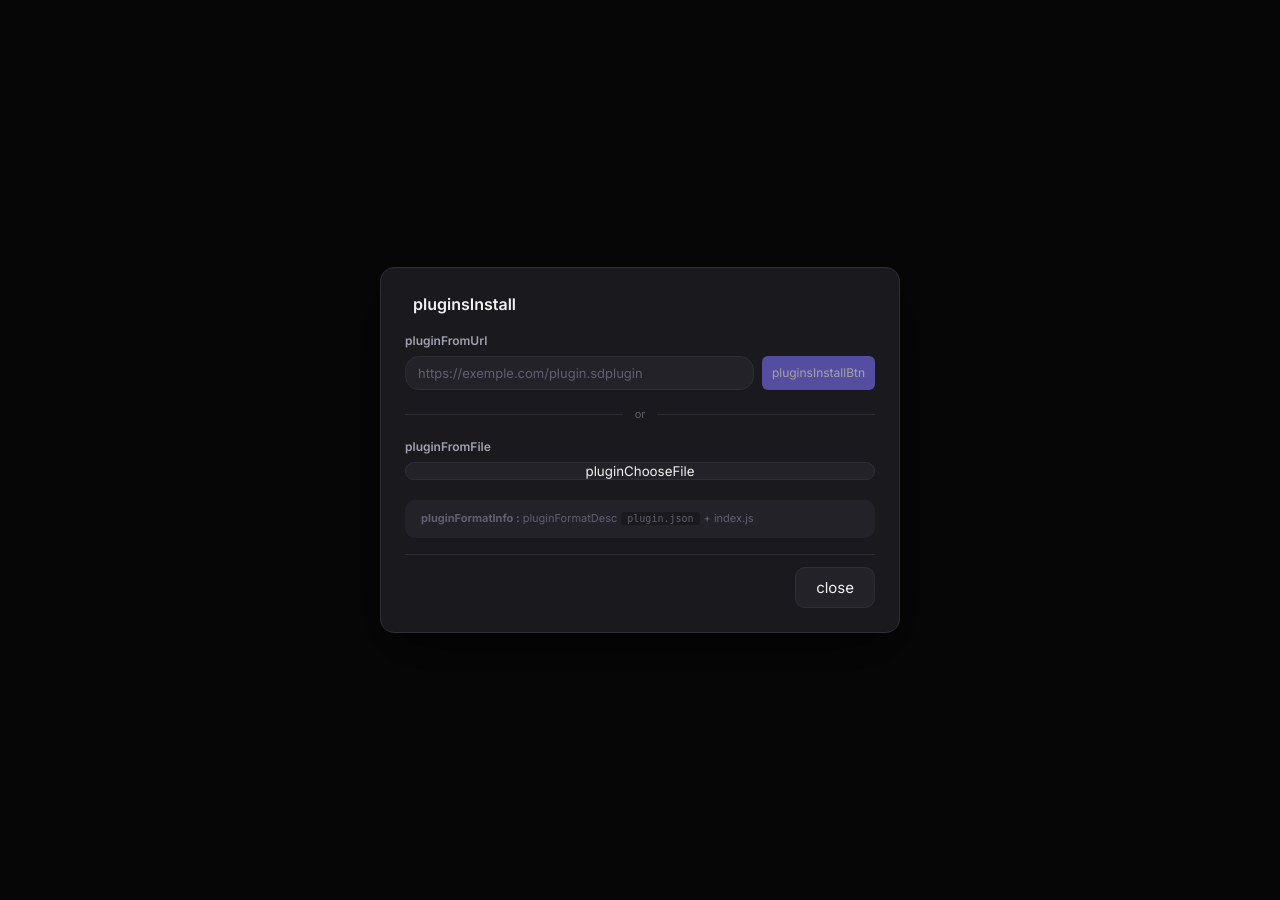
Test: PluginInstaller > Install depuis URL › active le bouton dès qu'on tape une URL
The width and height of the screenshot is (1280, 900).
Type "https://x.com/p.sdplugin" into the field with placeholder "https://exemple.com/plugin.sdplugin".
click(579, 373); type("https://x.com/p.sdplugin")  # box [405,356,754,390]
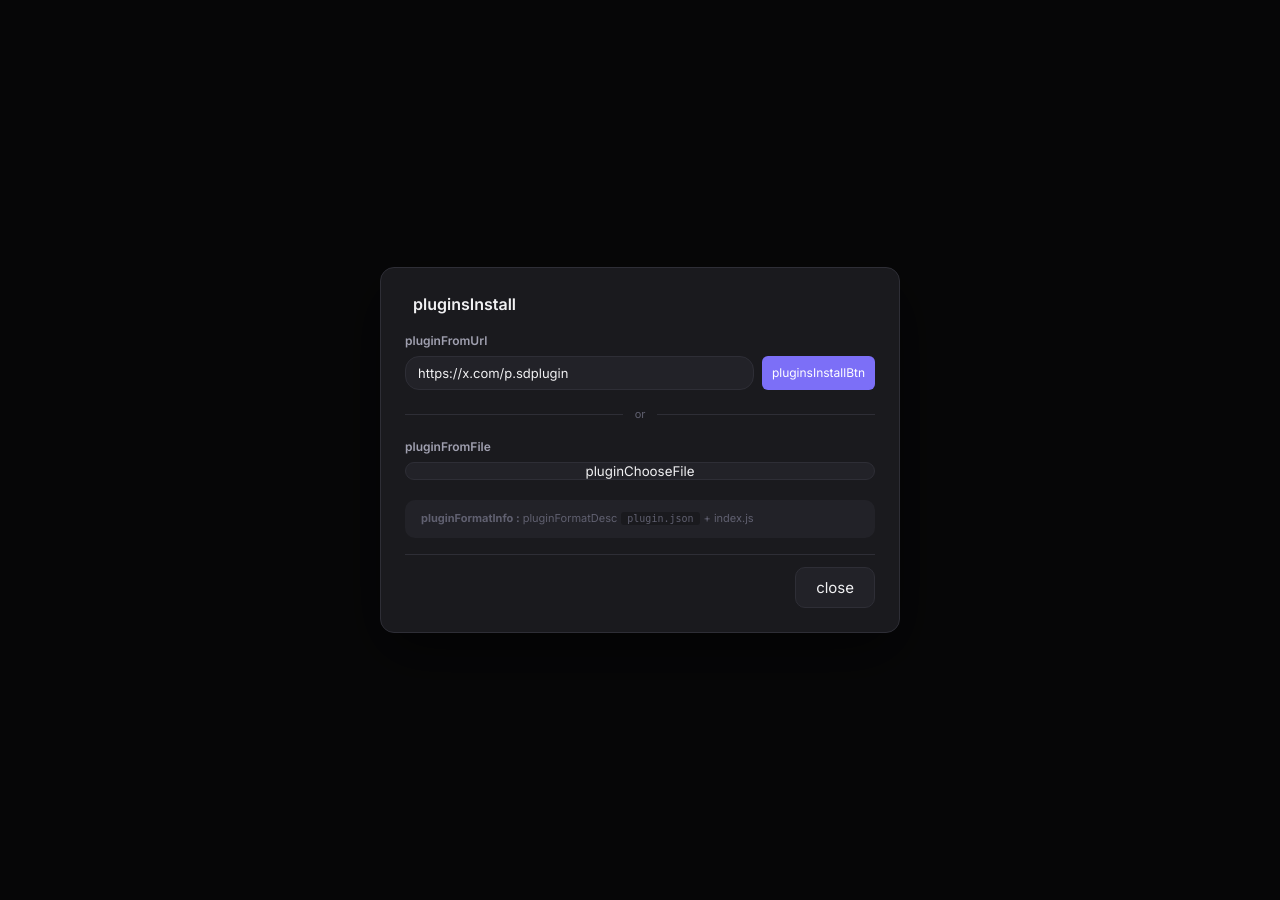
Expected: the button "pluginsInstallBtn" is enabled, [762,356,875,390]
